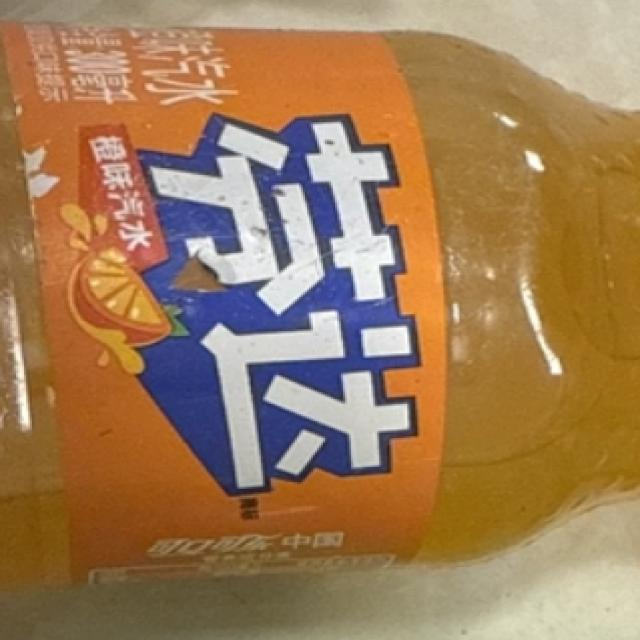orange: (60, 104, 438, 512)
